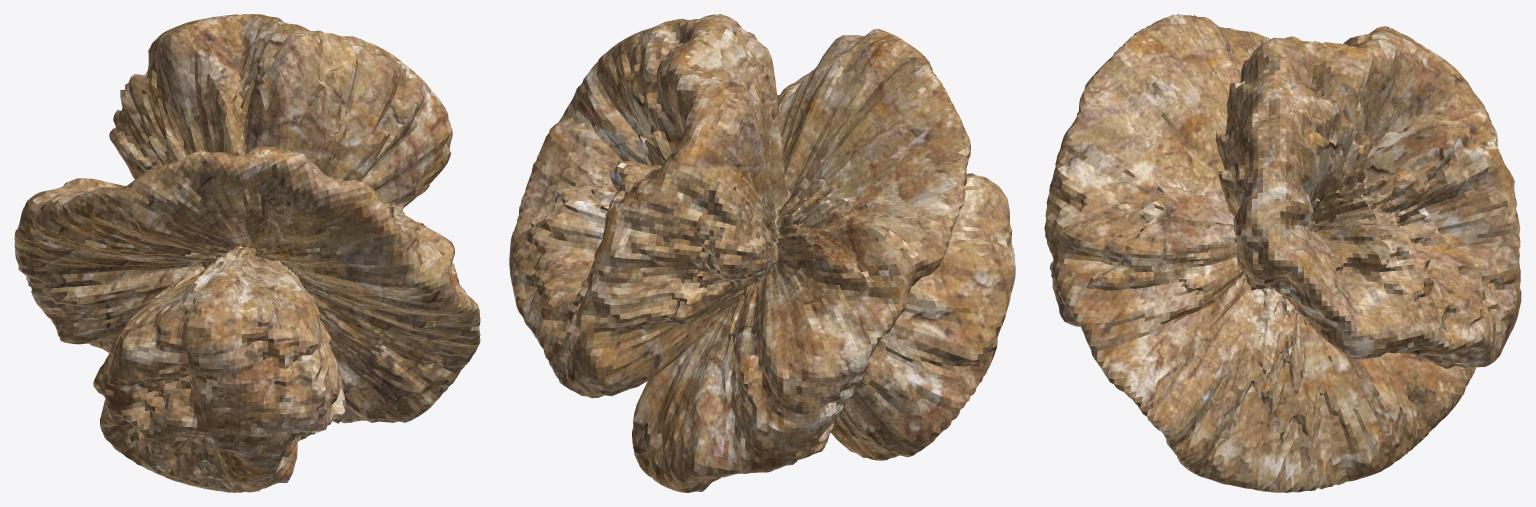
Rendered from bmeteor.fbx.
The picture shows the model from 3 angles, left to right: view 1: azimuth 30°, elevation 25°; view 2: azimuth 150°, elevation 25°; view 3: azimuth 270°, elevation 25°; orthographic projection. The views are drawn at different scales.
Parts seen in each view (by area): view 1: Cube; view 2: Cube; view 3: Cube.
Part boxes in pixels (x1,y1,x2,y2): Cube: (14,14,480,492); Cube: (509,14,1015,492); Cube: (1044,14,1521,492).
Bounding box in the file's own units: 580 × 576 × 579.
